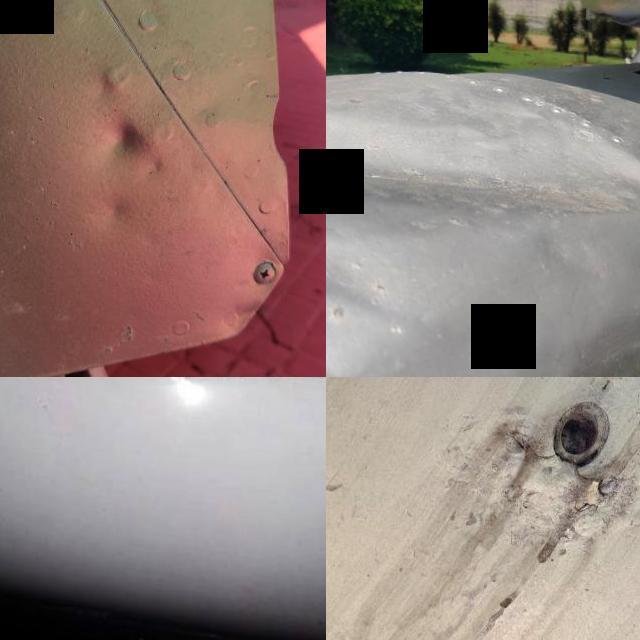Crack: (566, 458, 626, 521)
Dent: (326, 54, 640, 255), (326, 236, 431, 364), (64, 85, 174, 187)
